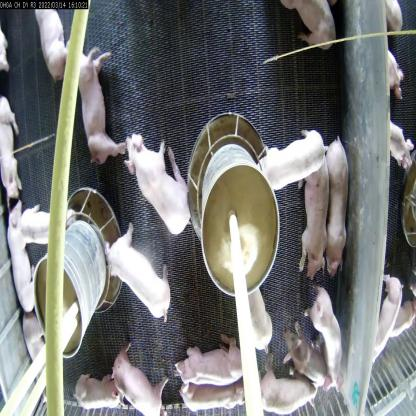Pig: (126, 124, 192, 241), (70, 44, 126, 162), (110, 229, 172, 324), (256, 124, 332, 193), (178, 332, 246, 390), (301, 145, 329, 280), (324, 138, 350, 283), (113, 350, 165, 415), (280, 322, 329, 390), (4, 200, 34, 311), (232, 274, 274, 351), (313, 290, 345, 388), (0, 83, 22, 210), (15, 203, 74, 245), (72, 369, 124, 416), (185, 378, 250, 415), (255, 373, 311, 415), (34, 10, 66, 77)
